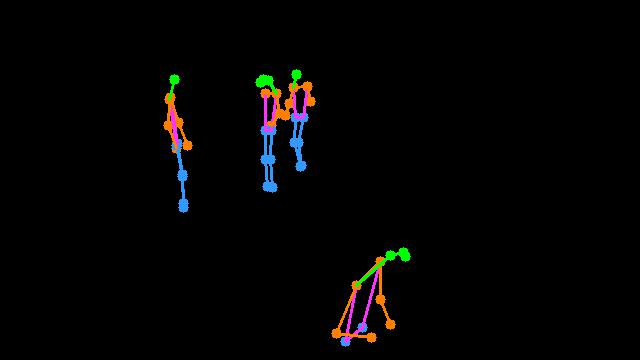normal: (229, 51, 338, 211), (129, 57, 227, 230)
